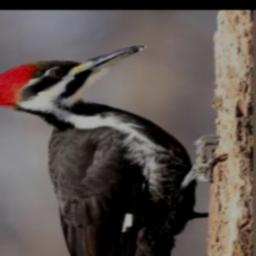Woodpecker: (0, 40, 221, 256)
